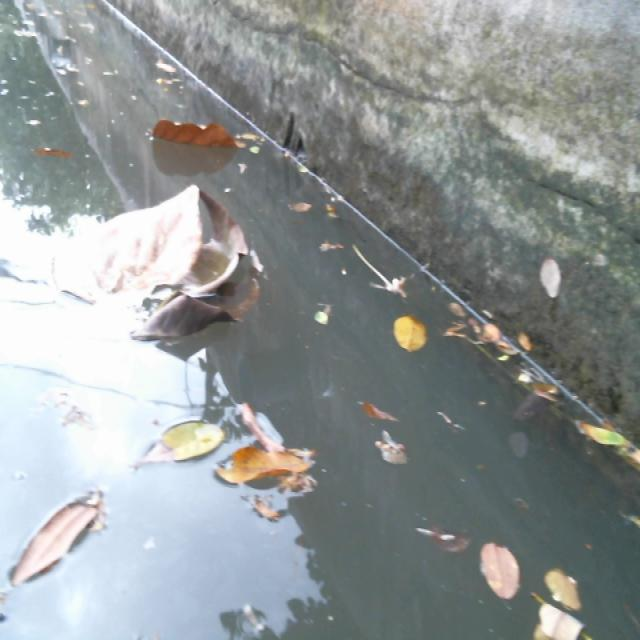Big-leaf: (60, 196, 260, 348), (222, 414, 322, 499), (142, 114, 249, 159)
Small-leaf: (0, 472, 114, 599), (136, 410, 222, 479), (478, 537, 523, 611), (378, 314, 442, 361), (577, 426, 640, 471), (420, 519, 473, 561), (536, 603, 591, 640), (375, 434, 415, 481), (545, 567, 587, 607), (248, 482, 288, 524), (360, 394, 403, 432), (308, 228, 352, 265), (278, 192, 322, 222), (326, 181, 351, 228), (29, 143, 80, 165), (153, 59, 191, 81), (313, 309, 336, 333)
